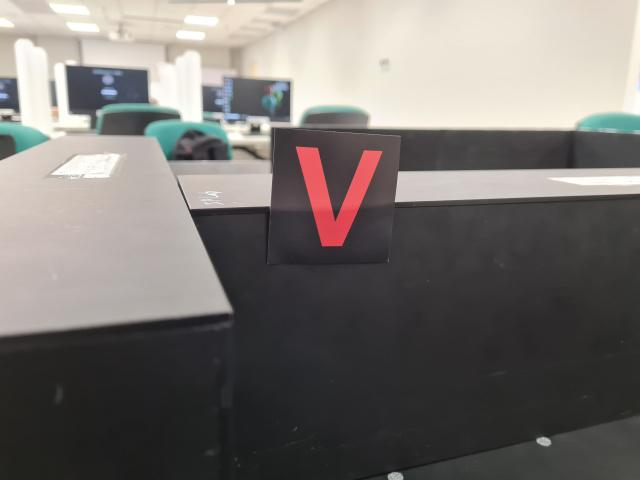v: (268, 128, 401, 267)
